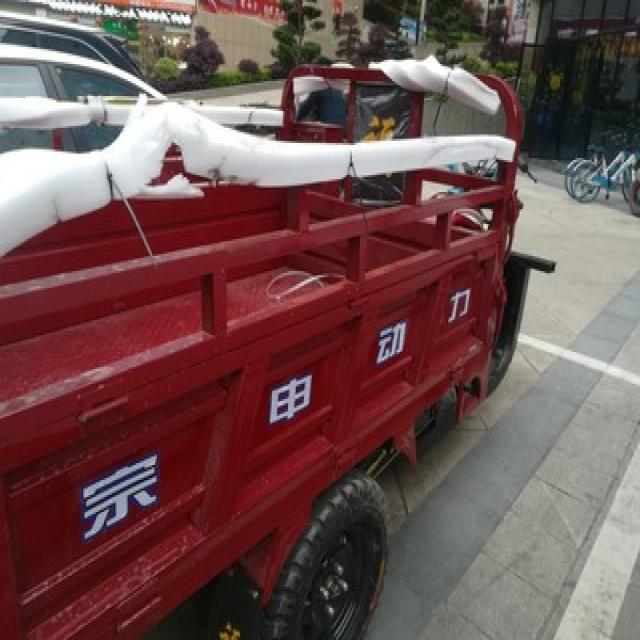bicycle: (568, 130, 638, 203)
car: (0, 36, 171, 152)
tricycle: (6, 53, 558, 636)
